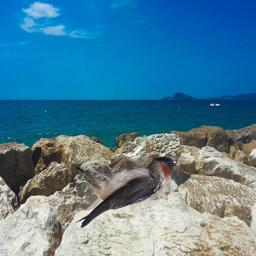Swallow: (71, 156, 183, 228)
